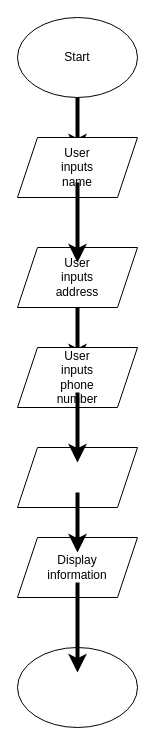
The diagram is 155 pixels wide and 745 high, and some of its shapes have lost their labels. Each missing label, with the box of its shape:
End: (16, 646, 138, 728)
User inputs college major: (16, 446, 138, 508)
